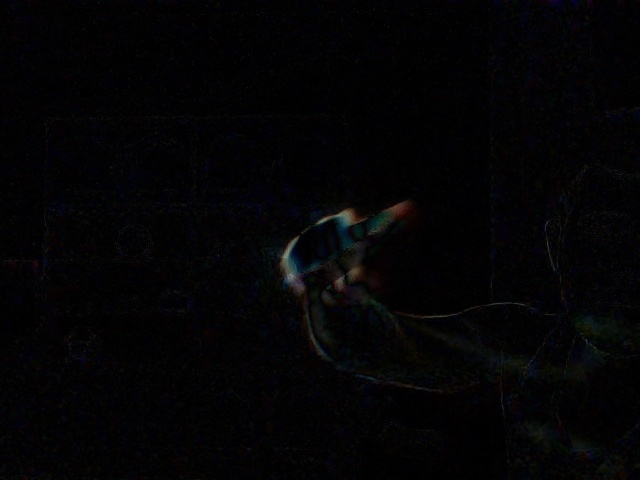hand_po: (281, 180, 426, 300)
